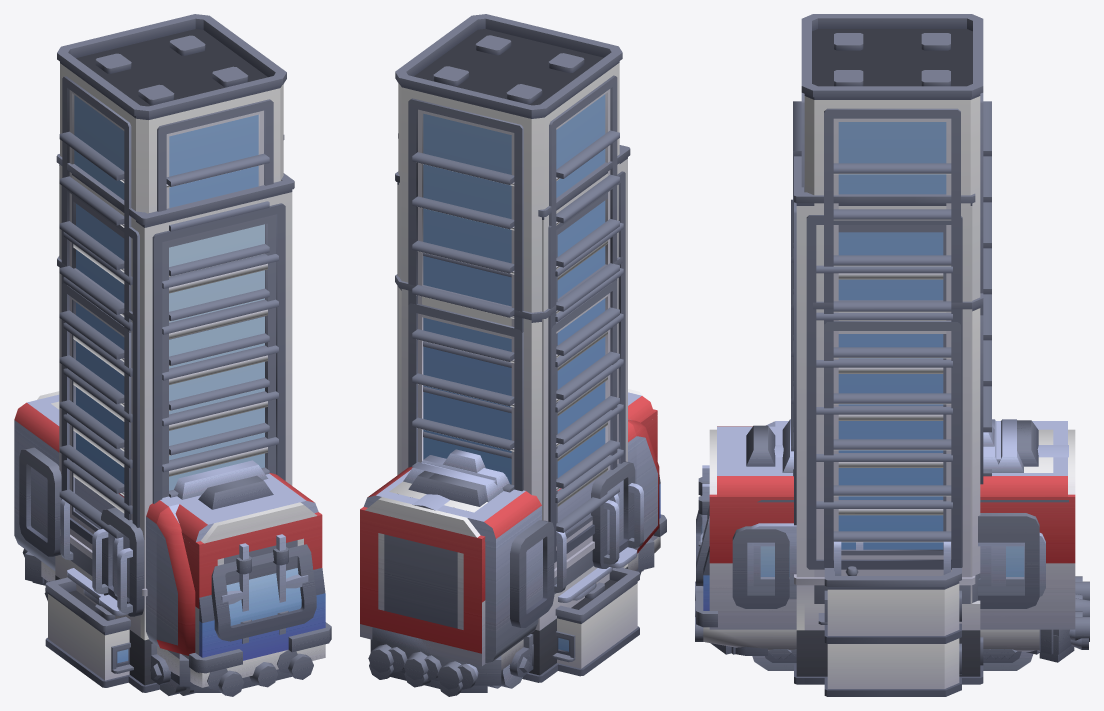
Rendered from md_world.glb.
3 renders of one model, left to right at view 1: azimuth 30°, elevation 25°; view 2: azimuth 150°, elevation 25°; view 3: azimuth 270°, elevation 25°, orthographic. The views are drawn at different scales.
Parts seen in each view (by area): view 1: building-skyscraper-b, building-skyscraper-c, train-electric-subway-a, train-tram-modern, train-electric-city-b, building-skyscraper-a, building-e, cargo, train-electric-subway-b, train-electric-subway-c, wheels-front; view 2: building-skyscraper-b, train-electric-subway-a, building-skyscraper-a, building-skyscraper-c, train-electric-city-b, train-electric-city-c, cargo, building-e, train-tram-modern, train-electric-subway-c, train-electric-city-a, train-electric-subway-b (+2 smaller); view 3: building-skyscraper-b, building-skyscraper-c, train-electric-city-b, building-e, building-skyscraper-a, train-tram-modern, train-electric-subway-b, train-electric-city-a, train-electric-subway-c, train-electric-subway-a, cargo, wheels-front.
Part boxes in pixels (x1,y1,x2,y2): building-skyscraper-b: [55, 14, 286, 682]; building-skyscraper-c: [56, 154, 294, 692]; train-electric-subway-a: [14, 394, 297, 690]; train-tram-modern: [32, 544, 331, 687]; train-electric-city-b: [37, 391, 316, 696]; building-skyscraper-a: [57, 256, 269, 689]; building-e: [45, 577, 133, 687]; cargo: [181, 512, 322, 643]; train-electric-subway-b: [39, 395, 318, 690]; train-electric-subway-c: [53, 406, 290, 692]; wheels-front: [150, 643, 186, 695]; building-skyscraper-b: [395, 14, 624, 676]; train-electric-subway-a: [387, 419, 659, 689]; building-skyscraper-a: [395, 257, 622, 682]; building-skyscraper-c: [395, 145, 630, 673]; train-electric-city-b: [365, 391, 657, 689]; train-electric-city-c: [360, 389, 657, 684]; cargo: [360, 409, 657, 653]; building-e: [552, 567, 639, 676]; train-tram-modern: [369, 449, 666, 696]; train-electric-subway-c: [364, 411, 653, 666]; train-electric-city-a: [389, 462, 641, 575]; train-electric-subway-b: [364, 392, 653, 667]; building-skyscraper-b: [793, 14, 991, 677]; building-skyscraper-c: [791, 156, 975, 684]; train-electric-city-b: [695, 419, 1089, 654]; building-e: [818, 566, 961, 696]; building-skyscraper-a: [793, 293, 991, 684]; train-tram-modern: [696, 421, 1088, 662]; train-electric-subway-b: [702, 425, 1082, 654]; train-electric-city-a: [735, 419, 1067, 655]; train-electric-subway-c: [702, 426, 1082, 641]; train-electric-subway-a: [766, 420, 1082, 616]; cargo: [698, 465, 1075, 586]; wheels-front: [753, 649, 796, 670].
Size of the model in its own units: 1.64 by 4.48 by 2.7.
2 materials, 2 textured.
